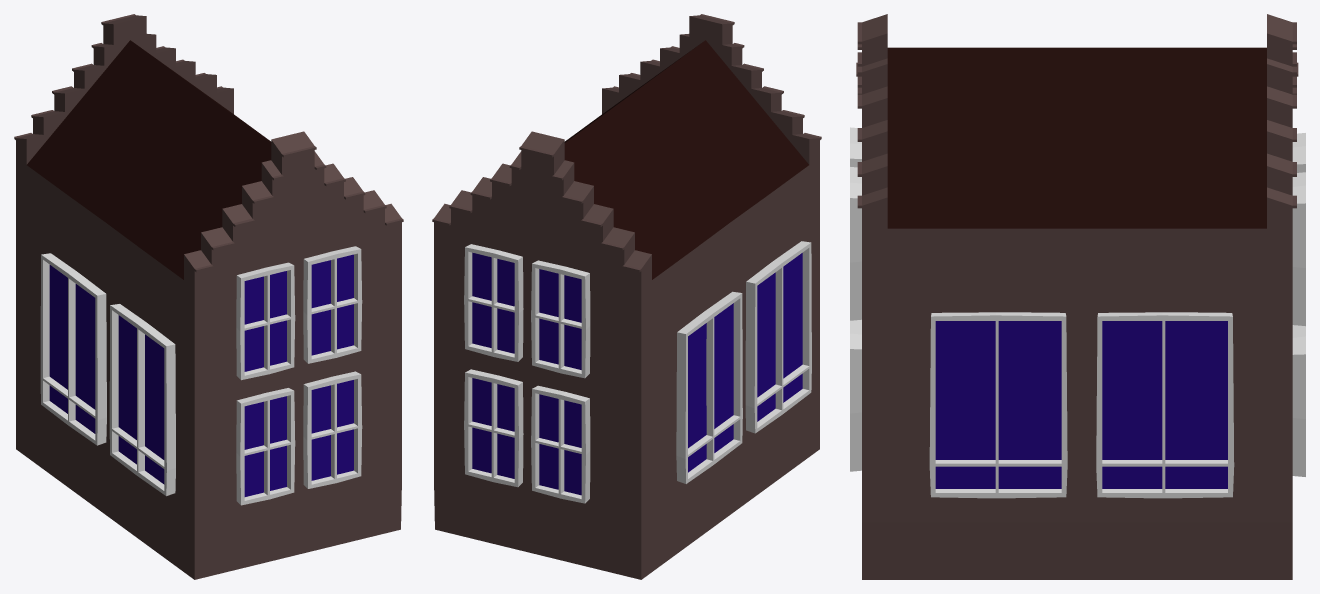
The model's file is Huis.fbx.
3 views of the same model, side by side, from view 1: azimuth 30°, elevation 25°; view 2: azimuth 150°, elevation 25°; view 3: azimuth 270°, elevation 25° (orthographic). The views are drawn at different scales.
Visible parts, largest first — view 1: Cube, Windows, Windows.003; view 2: Cube, Windows.001, Windows.003; view 3: Cube, Windows.002, Windows.001, Windows.
Boxes of the visible parts, bbox=[...] form: Cube: bbox=[14, 14, 403, 579]; Windows: bbox=[236, 246, 362, 505]; Windows.003: bbox=[40, 253, 175, 496]; Cube: bbox=[432, 14, 821, 579]; Windows.001: bbox=[464, 244, 590, 503]; Windows.003: bbox=[676, 241, 811, 483]; Cube: bbox=[856, 14, 1298, 579]; Windows.002: bbox=[929, 312, 1234, 498]; Windows.001: bbox=[1292, 133, 1305, 476]; Windows: bbox=[850, 127, 861, 471].
Bounding box in the file's own units: 970 × 1699 × 1416.
